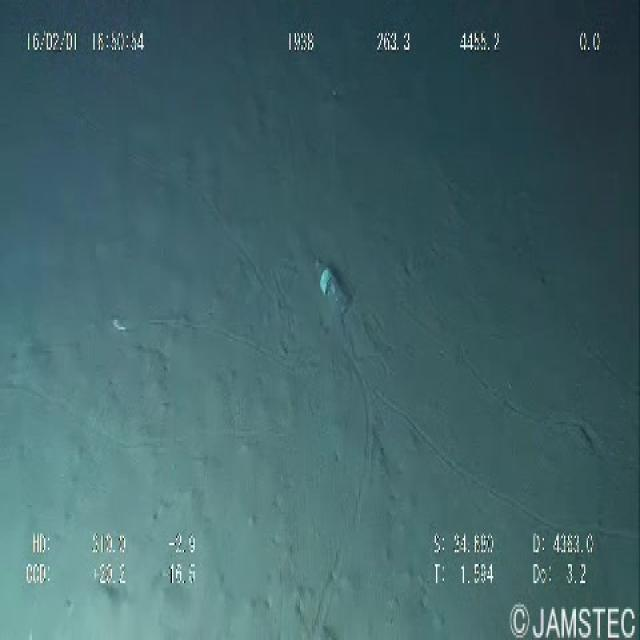plastic: (301, 242, 372, 327)
